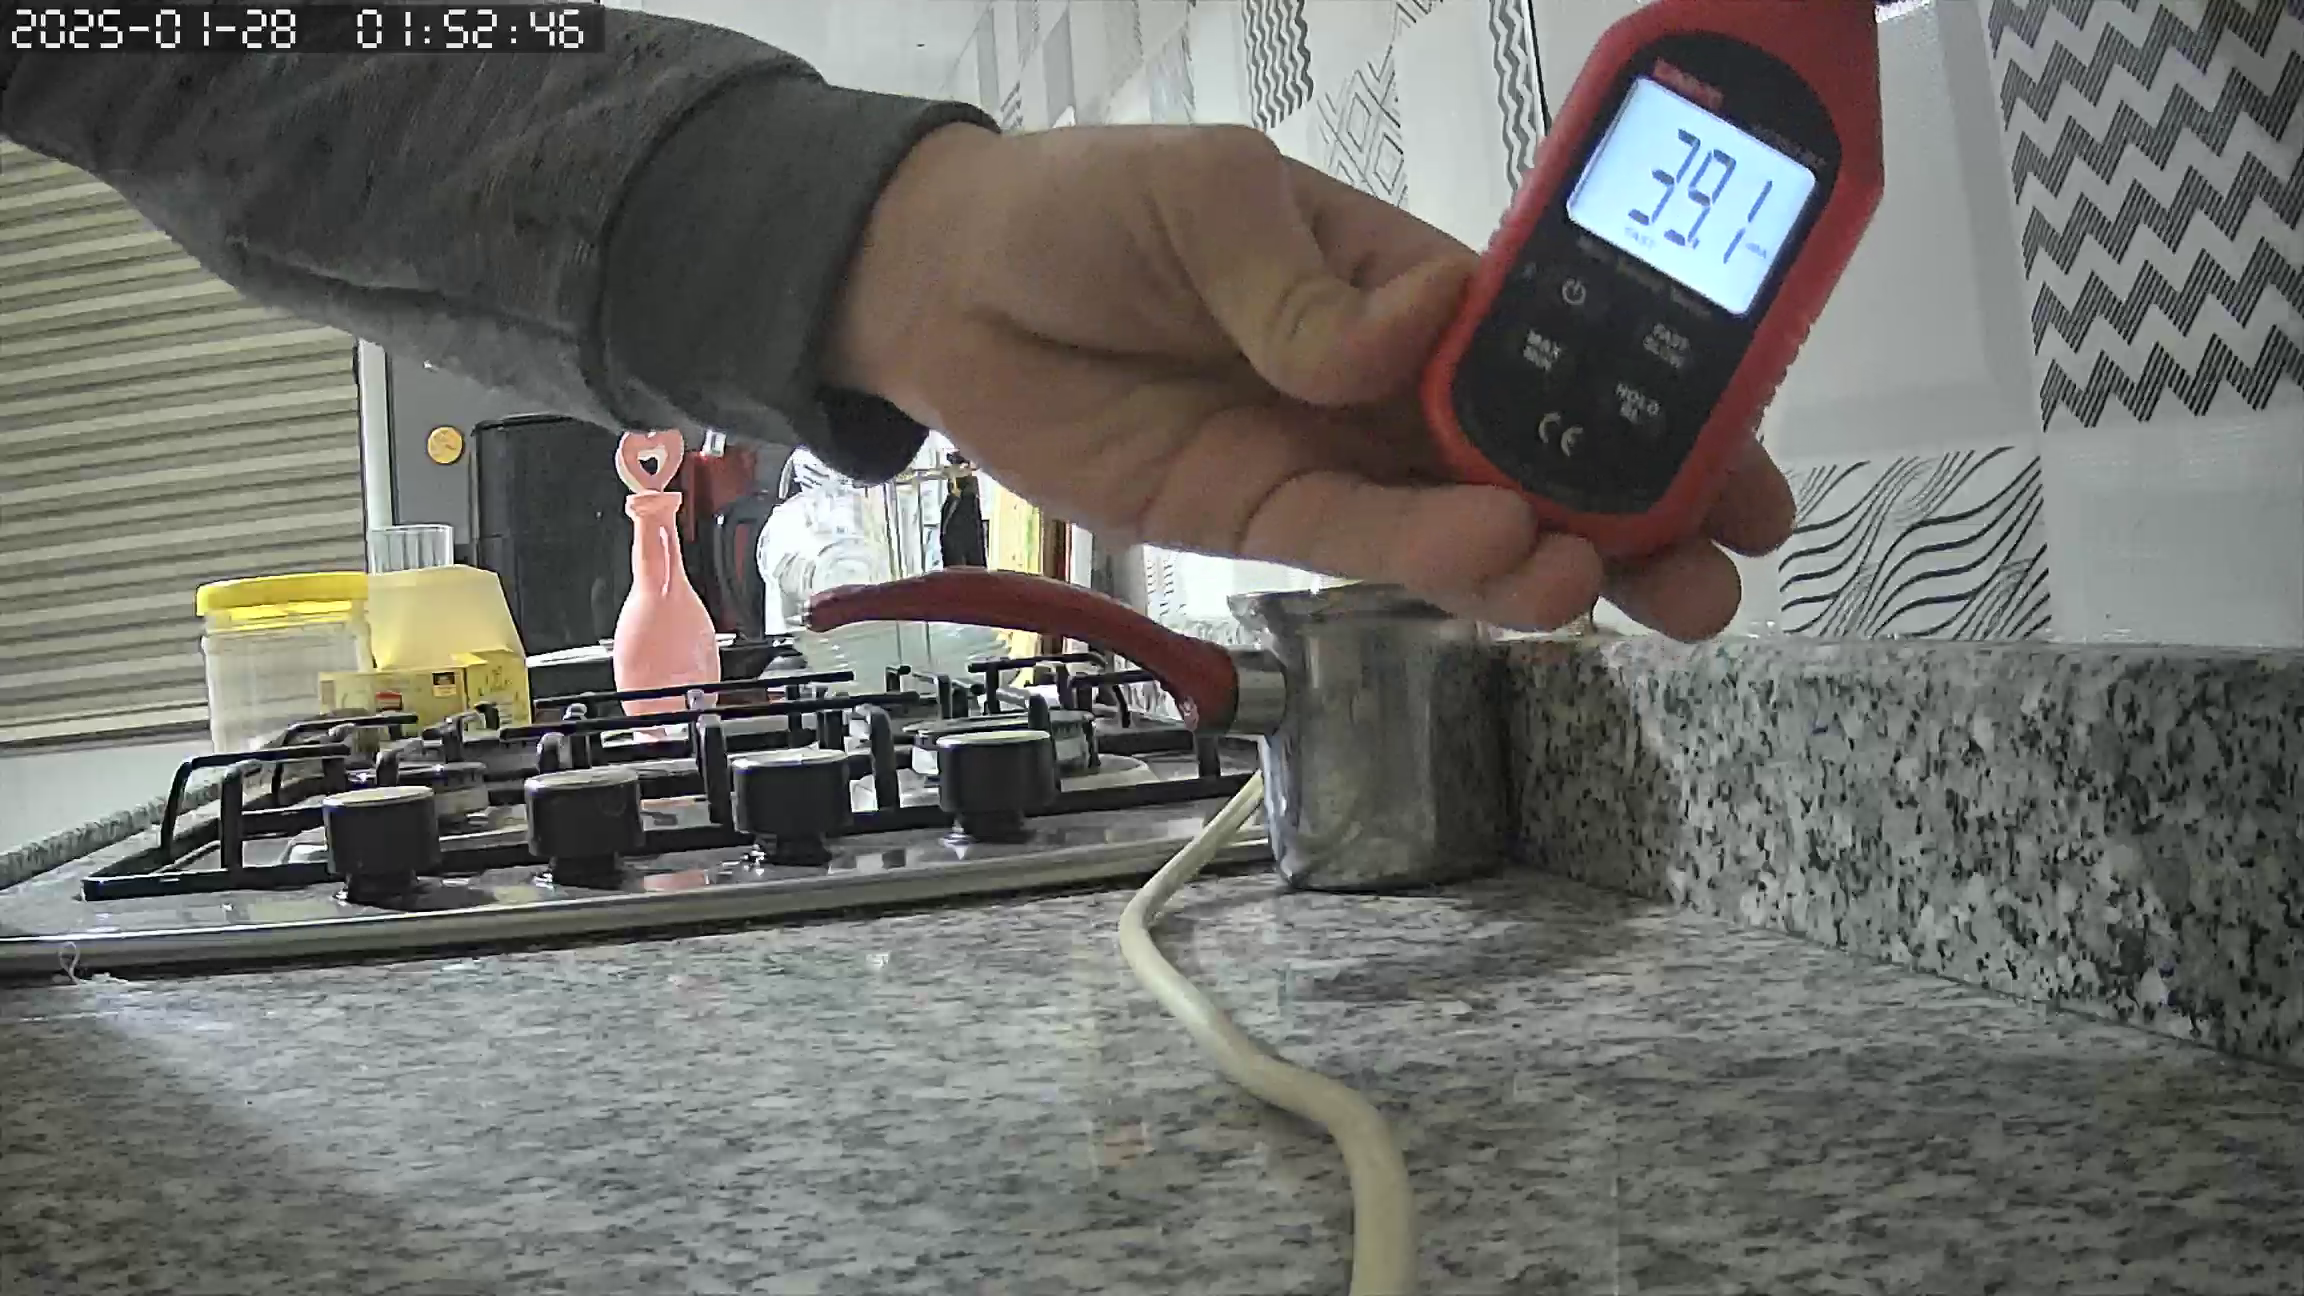screen: (1565, 74, 1815, 318)
